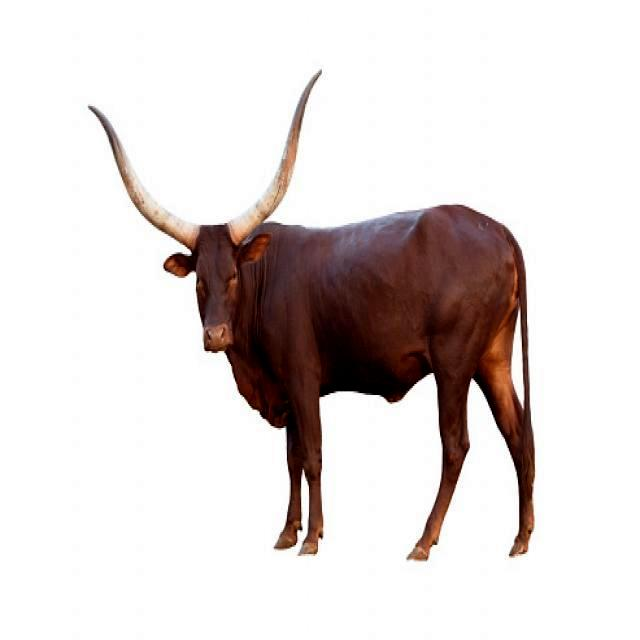COW: (89, 71, 535, 559)
